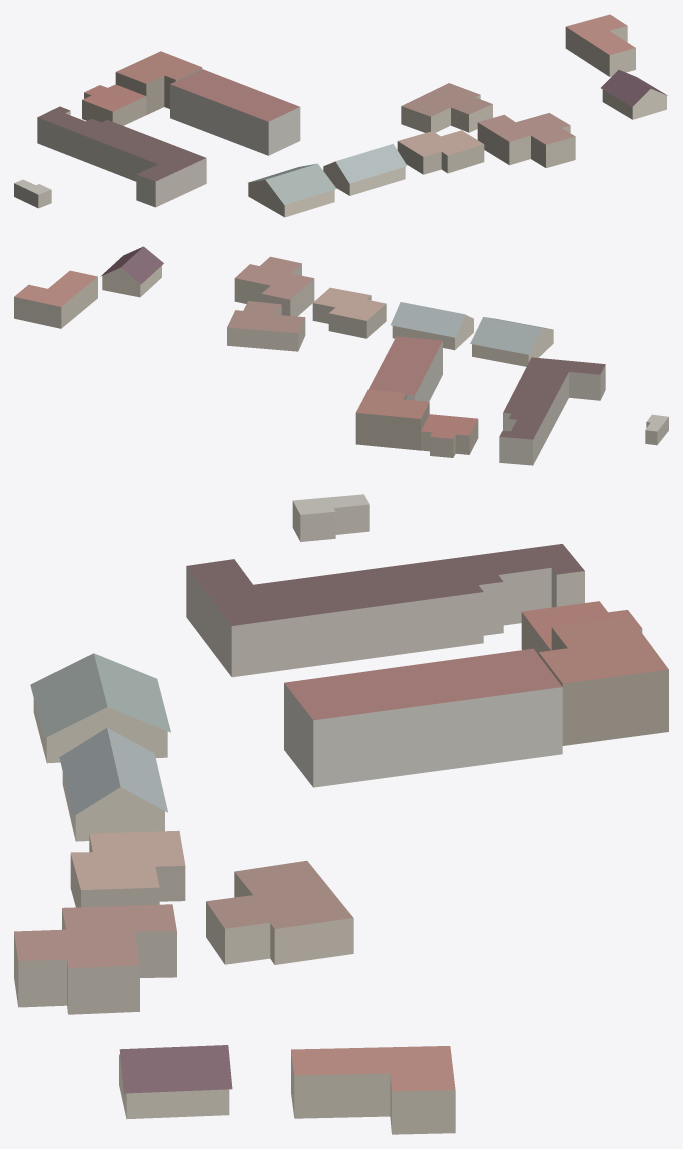
The picture shows the model from 3 angles, top to bottom: view 1: azimuth 30°, elevation 25°; view 2: azimuth 150°, elevation 25°; view 3: azimuth 270°, elevation 25°; orthographic projection. The views are drawn at different scales.
Visible parts, largest first — view 1: tuile; view 2: tuile; view 3: tuile.
Boxes of the visible parts, left/top/right/bottom form: tuile: left=14, top=14, right=667, bottom=217; tuile: left=14, top=246, right=668, bottom=465; tuile: left=14, top=494, right=668, bottom=1134.
Size of the model in its own units: 165 by 12.48 by 76.39.
